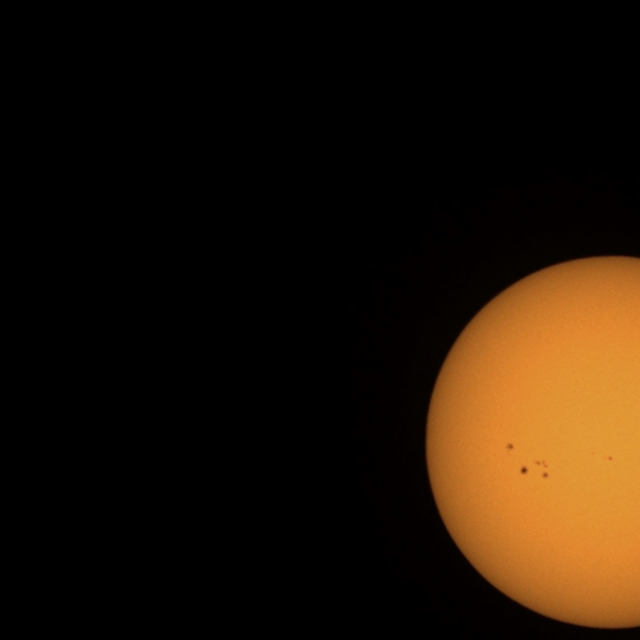sunspot: (532, 459, 550, 478), (519, 465, 529, 476), (505, 442, 515, 453), (541, 469, 550, 479), (606, 455, 614, 462)
